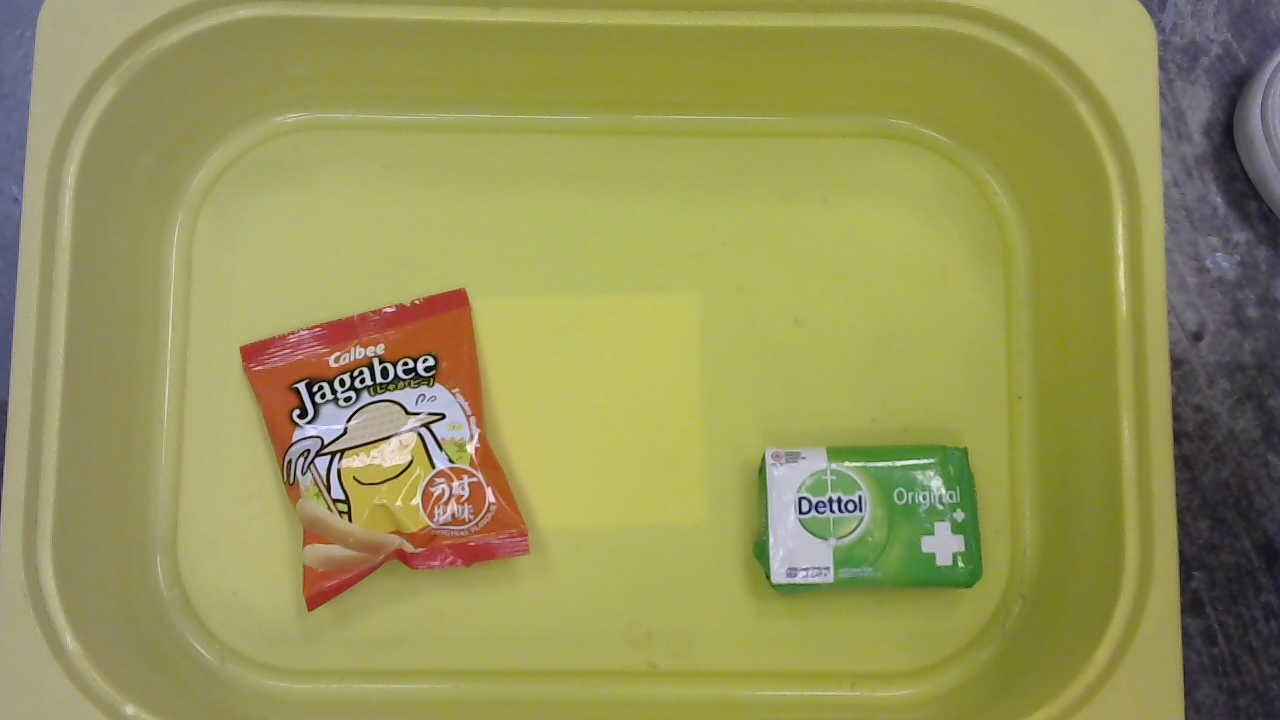Dettol: (745, 438, 991, 602)
JagabeeFarmer: (236, 286, 543, 616)
